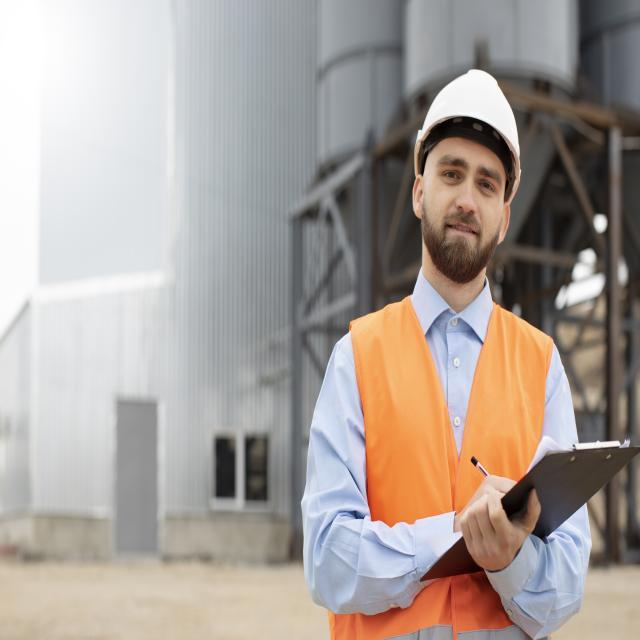helmet: (413, 59, 528, 187)
jacket: (352, 292, 548, 614)
